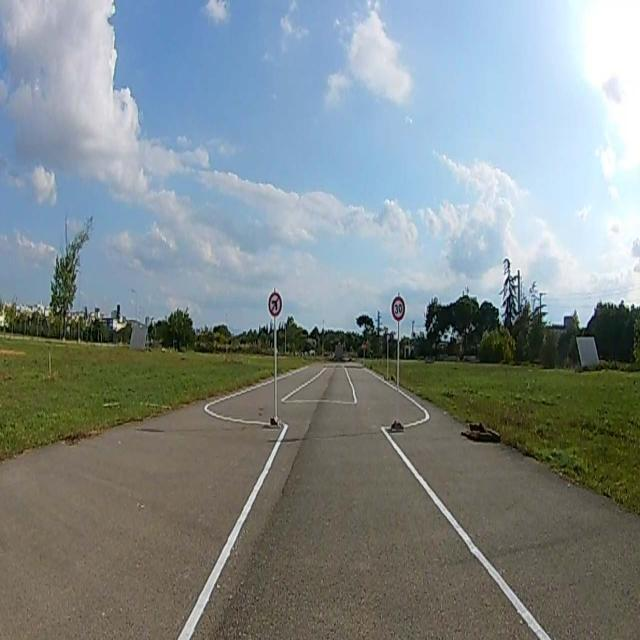30: (391, 296, 405, 320)
soladonulmez: (268, 292, 282, 314)
